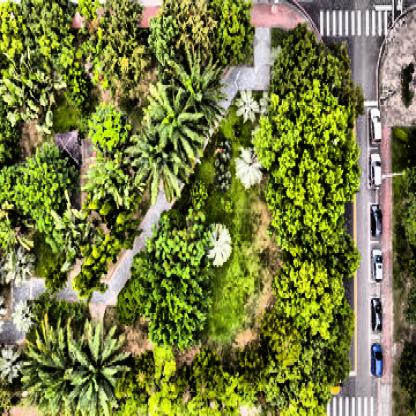tree-top: (254, 89, 356, 260), (133, 225, 214, 347), (66, 320, 133, 416), (88, 2, 150, 94), (6, 144, 74, 224), (277, 260, 345, 338), (0, 64, 65, 136), (26, 317, 72, 411), (169, 55, 225, 129), (275, 28, 337, 93), (150, 86, 198, 157), (20, 4, 70, 70), (136, 121, 180, 195), (56, 198, 102, 261), (212, 9, 257, 70), (169, 0, 213, 59), (263, 308, 306, 363), (142, 9, 183, 64), (120, 349, 157, 406), (92, 149, 128, 206), (84, 107, 130, 150), (272, 384, 332, 416), (259, 362, 299, 409), (217, 369, 253, 416), (103, 206, 137, 253), (151, 374, 189, 416), (78, 251, 108, 300), (62, 62, 91, 112), (0, 0, 24, 60), (299, 335, 327, 386), (205, 221, 235, 268), (193, 340, 221, 389), (231, 342, 268, 379), (40, 256, 70, 300), (397, 343, 416, 412), (0, 206, 25, 258), (328, 340, 350, 391), (0, 344, 28, 383), (236, 152, 266, 187), (234, 86, 258, 129), (154, 348, 182, 380), (191, 178, 209, 210)
